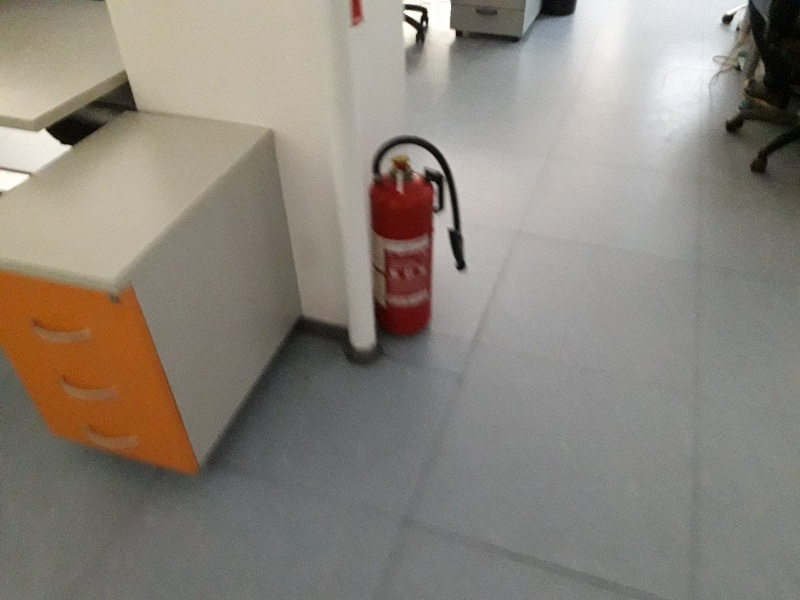vataparat: (367, 134, 467, 337)
